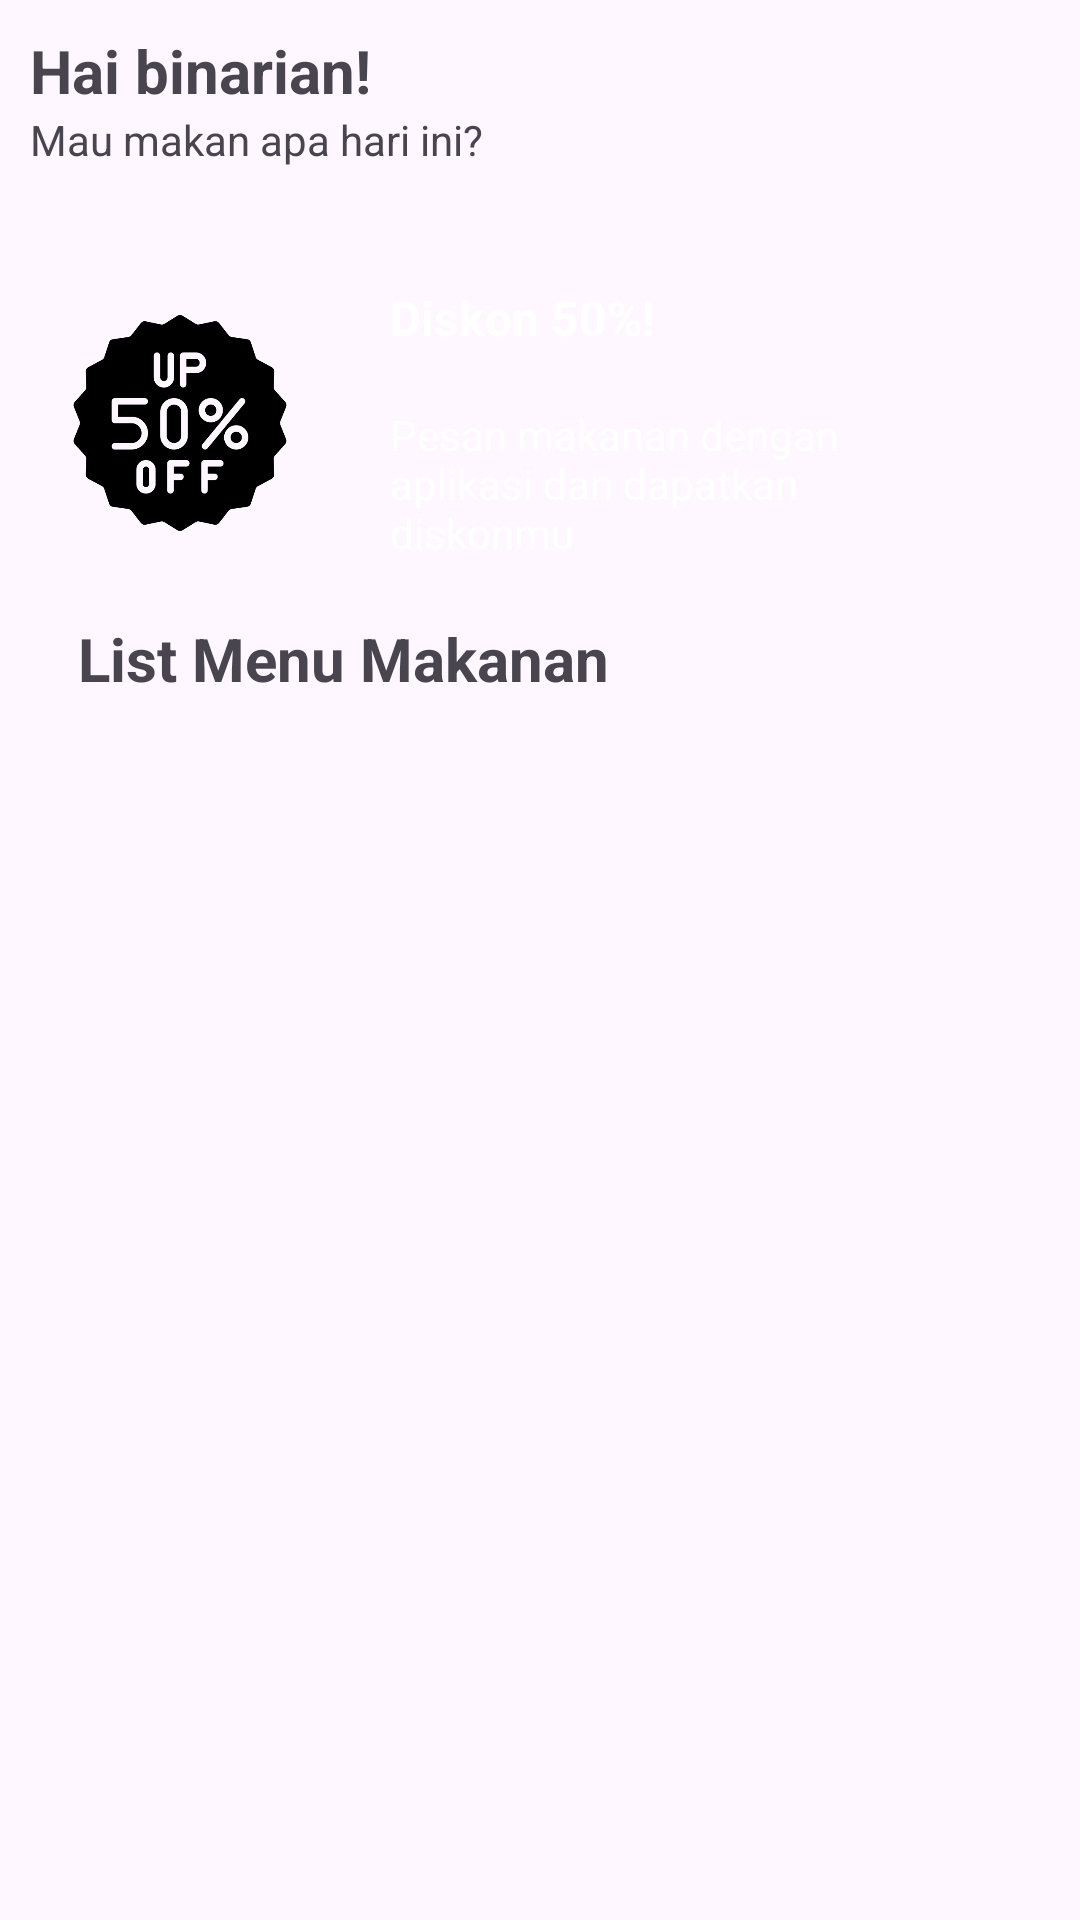

Where icons sit on this 1080×1920 app screen, as (x1, y1, x2, y2):
discount: (73, 315, 287, 531)
